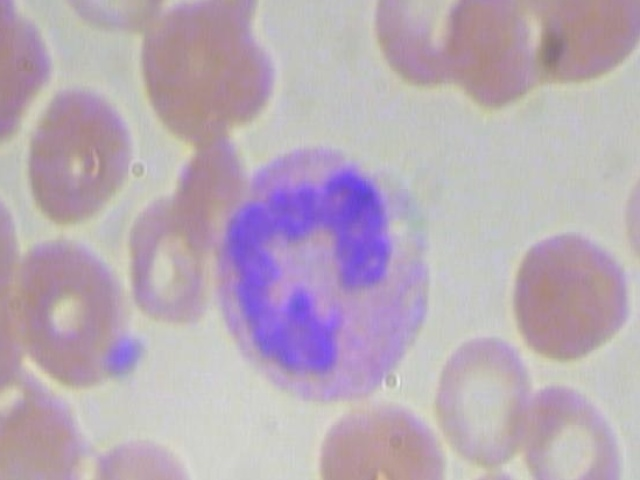Platelets: (105, 326, 151, 388)
RBC: (128, 0, 281, 151), (7, 229, 138, 399), (495, 226, 632, 371), (426, 330, 552, 479), (26, 84, 154, 230), (516, 374, 640, 480), (316, 391, 460, 480), (361, 0, 488, 94), (75, 436, 200, 480), (52, 0, 173, 38)
WBC: (211, 125, 447, 417)
